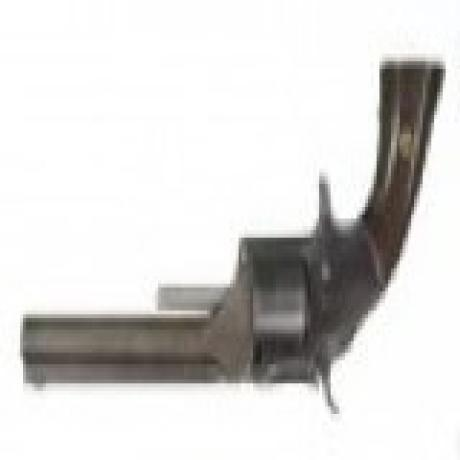weapon: (17, 54, 443, 416)
